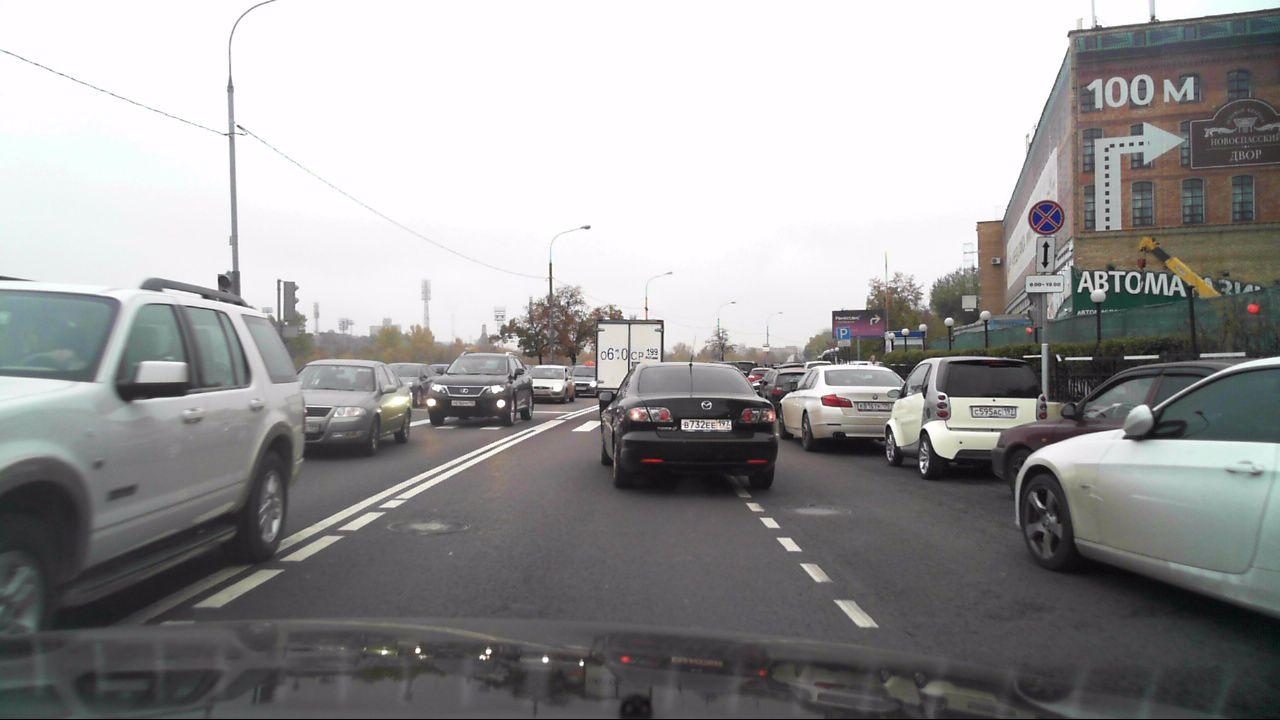No Parking: (1027, 198, 1066, 235)
